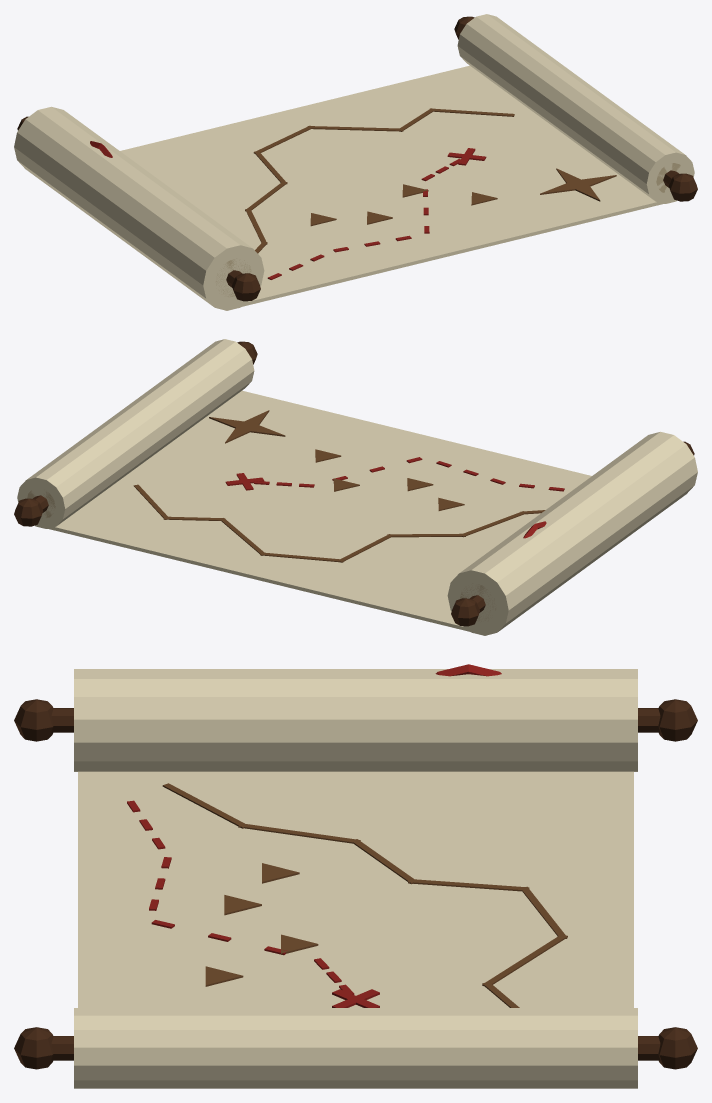
The model's file is map_scroll.obj.
3 renders of one model, top to bottom at view 1: azimuth 30°, elevation 25°; view 2: azimuth 150°, elevation 25°; view 3: azimuth 270°, elevation 25°, orthographic. The views are drawn at different scales.
Parts seen in each view (by area): view 1: box, lathe, lathe.006, lathe.003, lathe.009; view 2: box, lathe, lathe.006, lathe.005, lathe.011; view 3: box, lathe, lathe.006, lathe.003, lathe.005, lathe.009, lathe.011.
Boxes of the visible parts, x1,y1,x2,y2 form: box: (120,65,663,306); lathe: (14,106,264,310); lathe.006: (457,14,694,203); lathe.003: (232,273,260,301); lathe.009: (669,173,697,201); box: (48,390,591,631); lathe: (447,431,697,635); lathe.006: (17,339,254,528); lathe.005: (451,598,479,626); lathe.011: (14,498,42,526); box: (78,771,633,1007); lathe: (74,669,637,771); lathe.006: (74,1008,637,1088); lathe.003: (14,699,53,741); lathe.005: (658,699,697,741); lathe.009: (14,1027,53,1069); lathe.011: (658,1027,697,1069).
Size of the model in its own units: 0.45 by 0.066 by 0.364.
